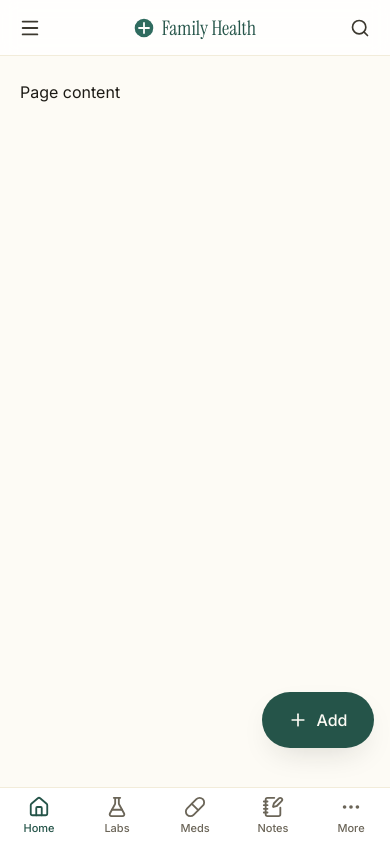
Scenario: Layout — mobile/tablet app bar › clicking the hamburger opens the drawer with all nav items including ones missing from the bottom nav
Expected: the text "Page content" is shown, [20, 82, 120, 102]
Click the button named "open navigation" at x=30, y=28, box [8, 6, 52, 50]
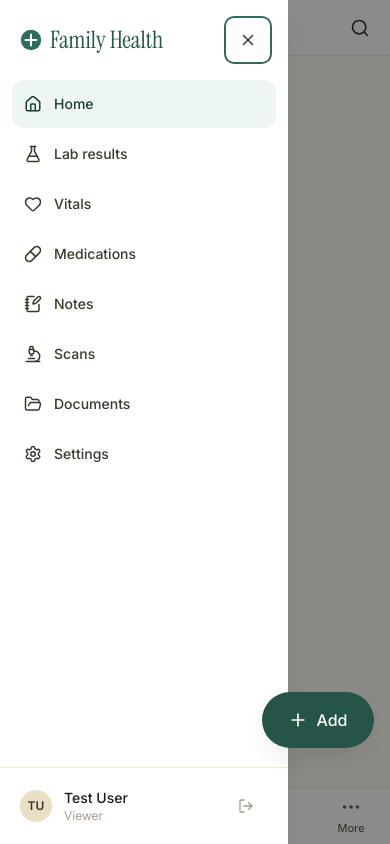
Now the link "Scans" is shown, box [24, 345, 95, 363]
Now the link "Notes" is shown, box [24, 295, 93, 313]
Now the link "Documents" is shown, box [24, 395, 130, 413]
